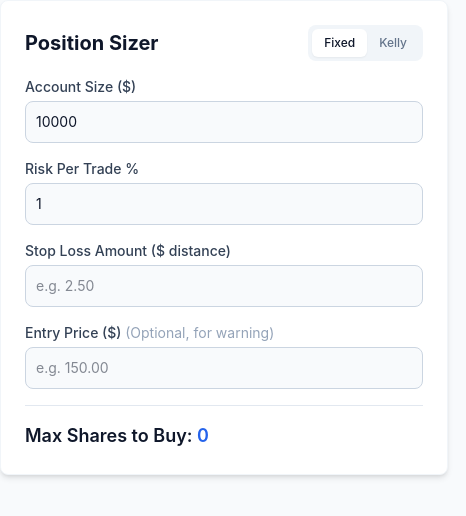
Test: PositionSizer › calculates Kelly risk as 0 if calculation is negative
The image size is (466, 516).
// Switch to Kelly
Click the button "Kelly": (393, 43) [367, 29, 419, 57]
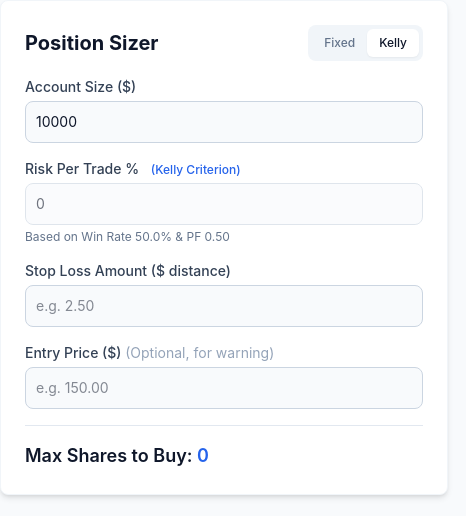
Result: the number field labelled "Risk Per Trade % (Kelly Criterion)" holds "0" at [25, 183, 423, 225]
